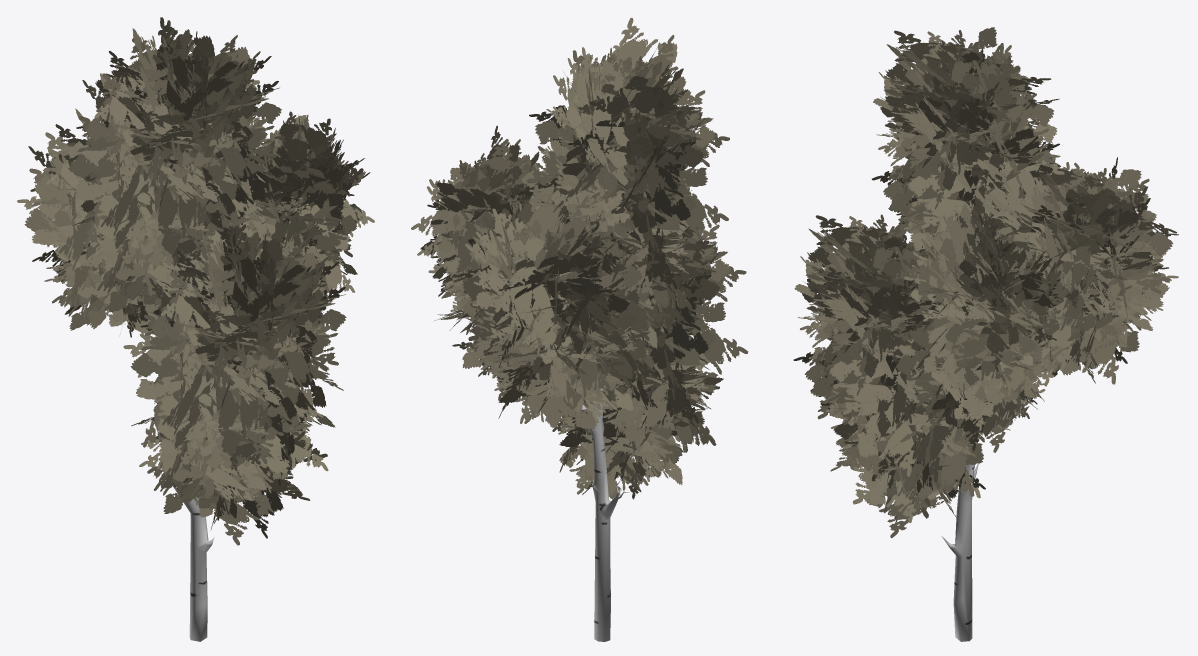
The model's file is tree 1.fbx.
3 renders of one model, left to right at view 1: azimuth 30°, elevation 25°; view 2: azimuth 150°, elevation 25°; view 3: azimuth 270°, elevation 25°, orthographic. The views are drawn at different scales.
Parts seen in each view (by area): view 1: Plane.527, Cylinder; view 2: Plane.527, Cylinder; view 3: Plane.527, Cylinder.
Boxes of the visible parts, bbox=[...] form: Plane.527: bbox=[17, 17, 374, 545]; Cylinder: bbox=[152, 254, 214, 641]; Plane.527: bbox=[411, 18, 748, 499]; Cylinder: bbox=[582, 388, 629, 641]; Plane.527: bbox=[793, 27, 1178, 538]; Cylinder: bbox=[941, 431, 978, 641].
Bounding box in the file's own units: 529 × 1085 × 657.
